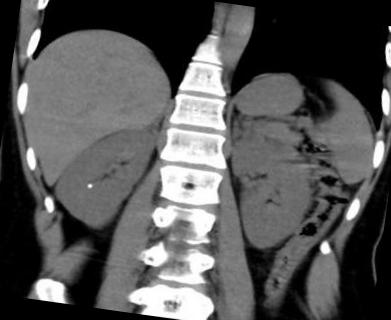Tas_Var: (86, 182, 93, 190)
